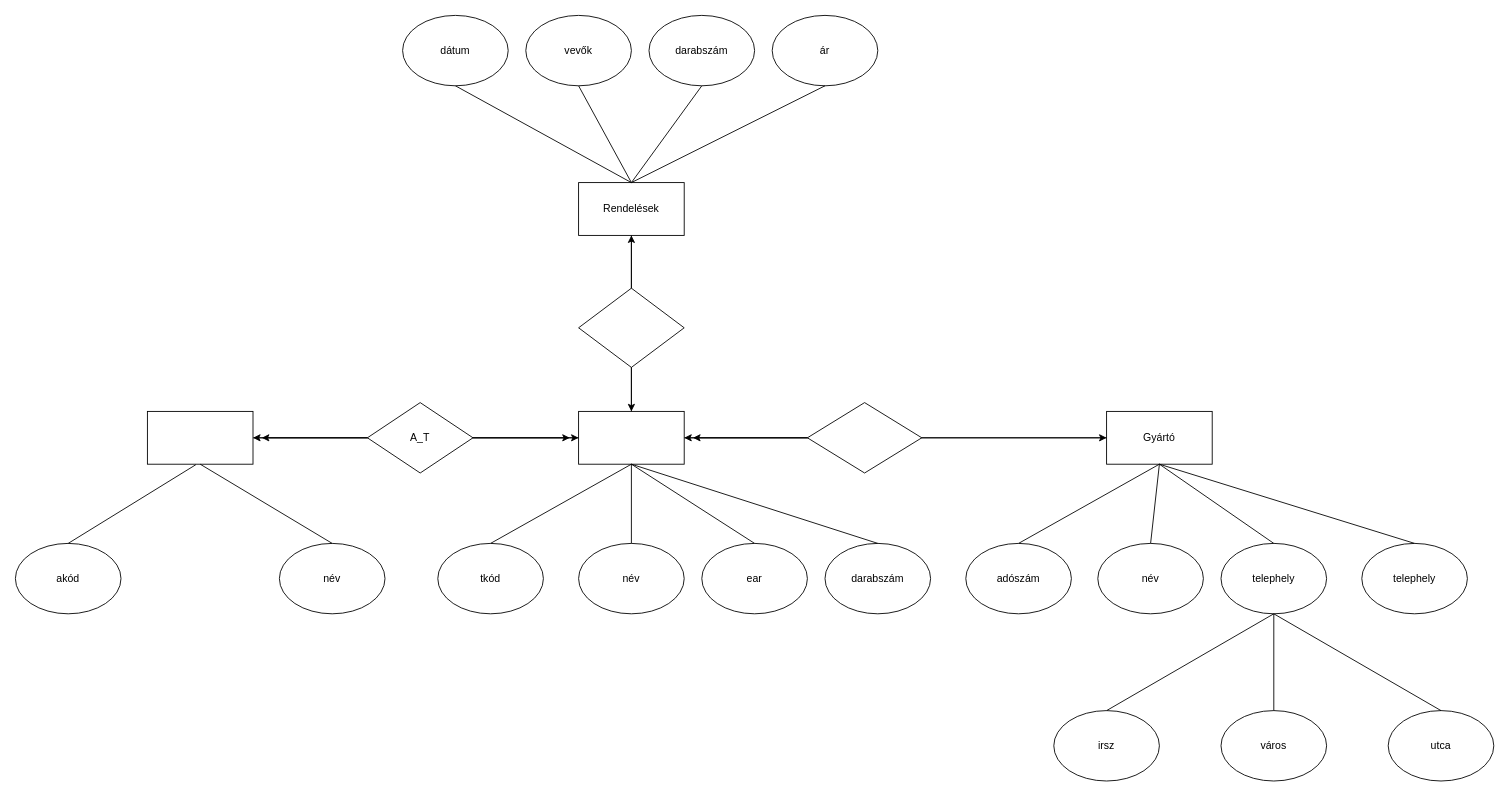
Image size: 1509x796. Some labels were removed from this diagram. Here are the shapes that lost their labels. From the top down, the centre of each, then its label:
point 631,327: R_T
point 200,437: alkatrész
point 631,437: Termék
point 864,437: T_GY
